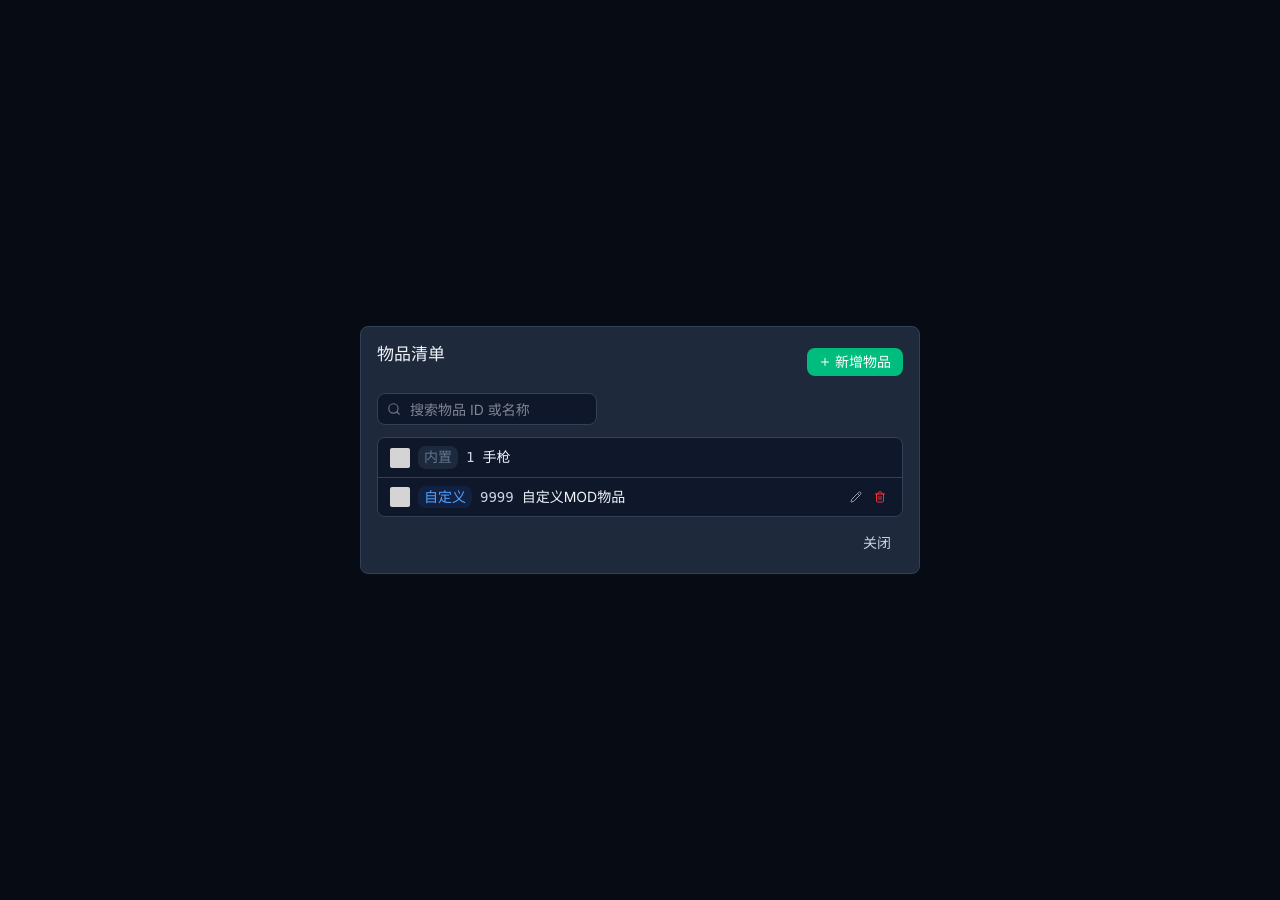
Scenario: ItemListDialog — 物品清单管理 › 新增：填已存在的内置 ID → 字段报错，不调 createItem
Click the button "新增物品" at (855,362), box [807,348,903,376]
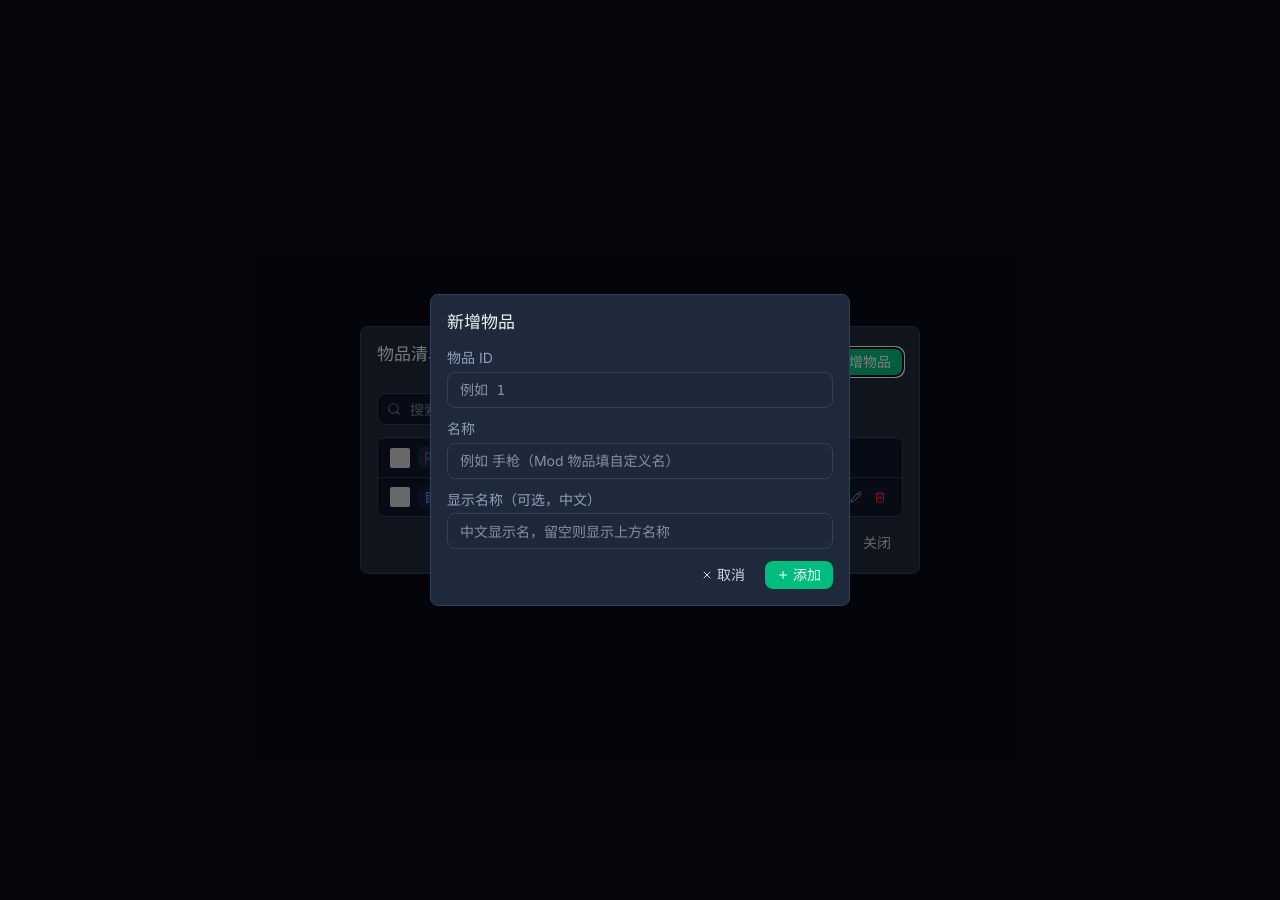
Type "1" into the field with placeholder "例如 1" at (640,390), box [447,372,833,408]
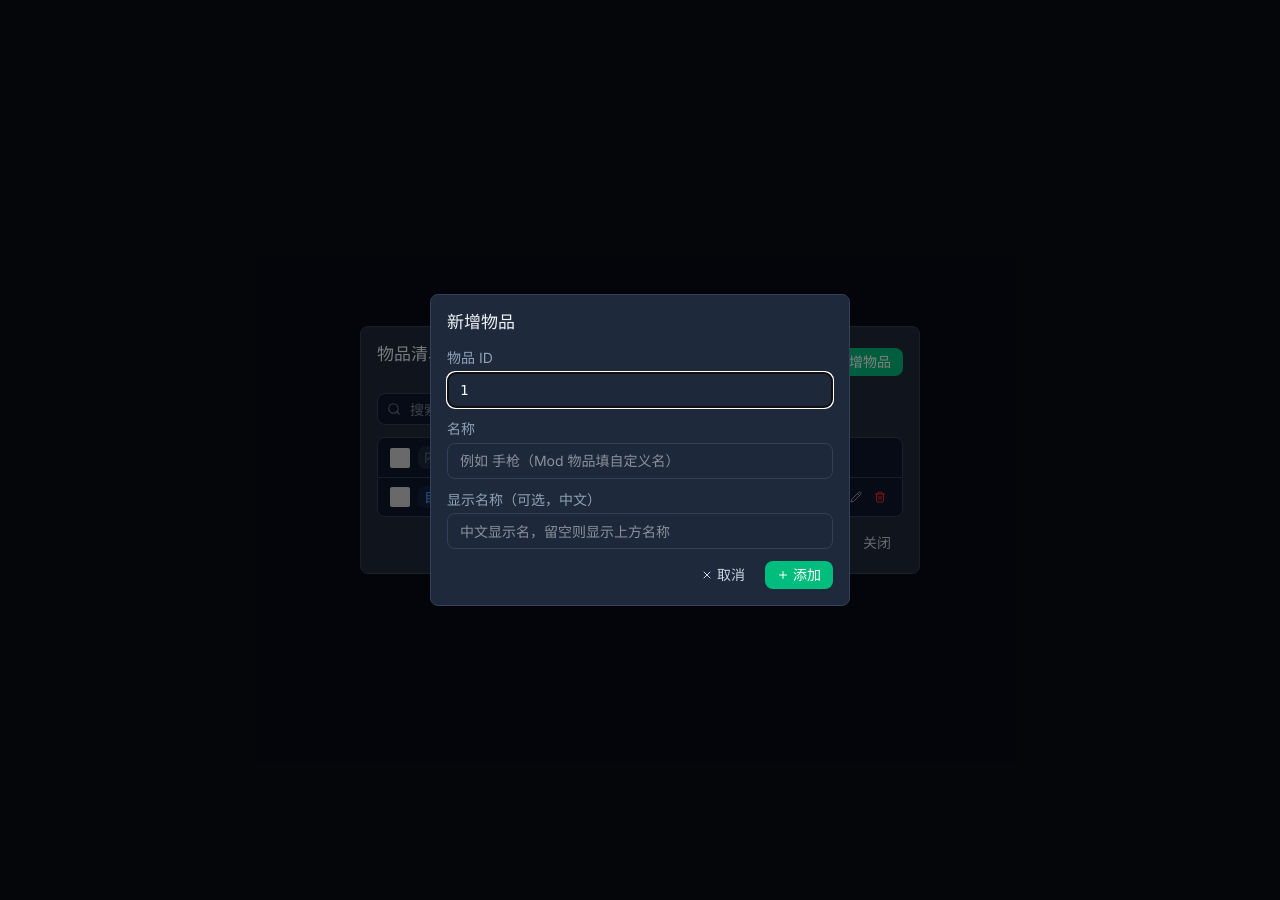
Type "重复内置物品" into the field with placeholder "例如 手枪（Mod 物品填自定义名）" at (640,461), box [447,443,833,479]
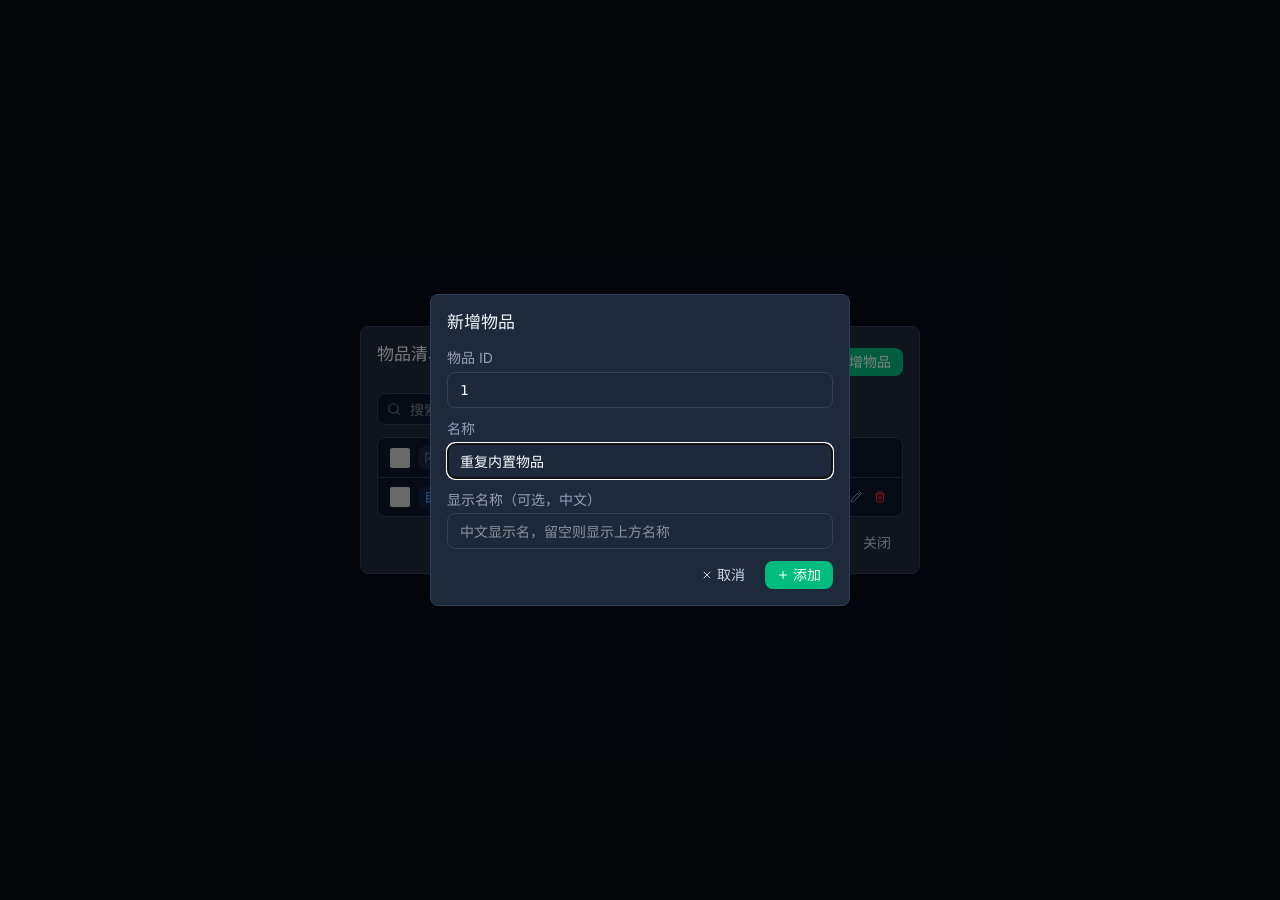
Click the button "添加" at (799,575), box [765,561,833,589]
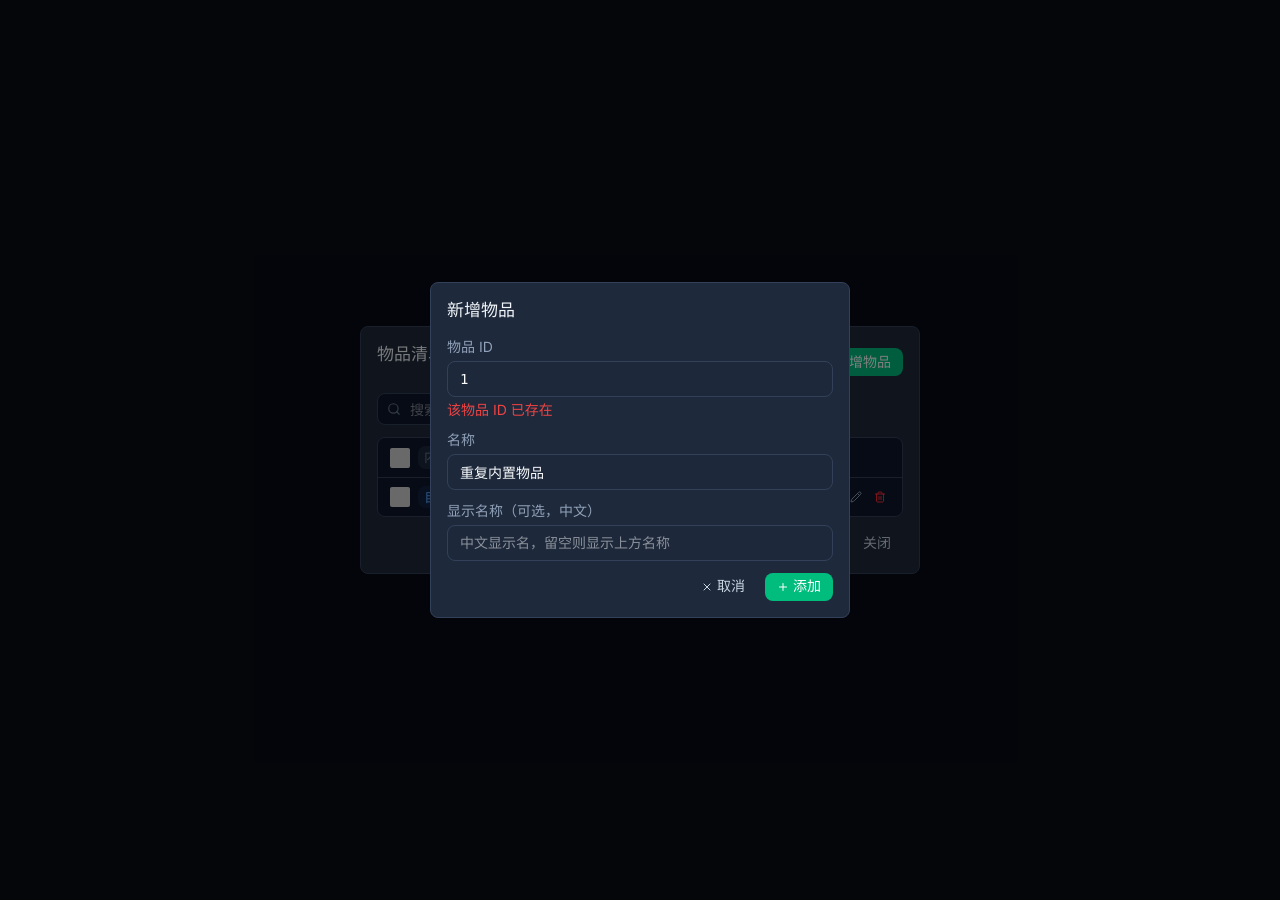
Expected: the text "该物品 ID 已存在" is shown, [447,401,553,418]
